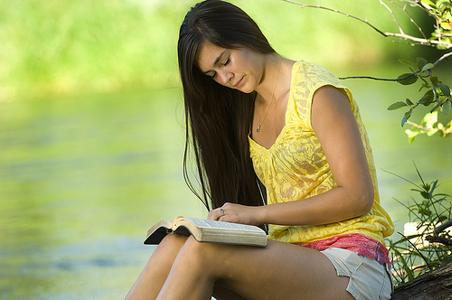person: (123, 3, 397, 300)
